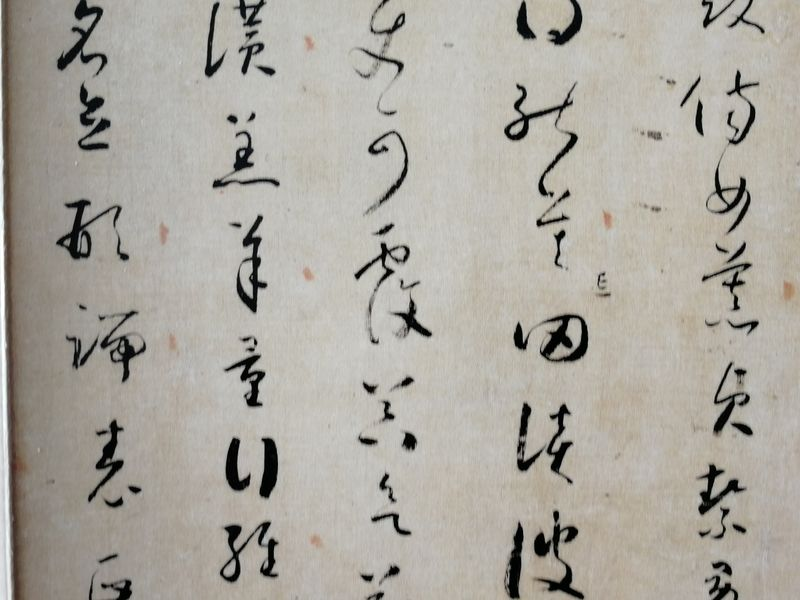zi: (356, 221, 437, 343), (60, 299, 147, 381), (500, 510, 579, 600), (198, 1, 281, 85), (209, 108, 283, 193), (706, 238, 764, 338), (505, 80, 579, 158), (355, 369, 419, 459), (685, 74, 765, 145), (84, 417, 140, 514), (55, 194, 132, 263), (214, 514, 280, 592), (515, 401, 577, 484), (509, 311, 599, 364), (225, 214, 271, 315), (529, 174, 575, 271), (222, 430, 280, 505), (708, 362, 759, 441), (694, 466, 748, 540), (51, 1, 106, 73), (354, 3, 403, 82), (362, 128, 408, 212), (703, 161, 757, 230), (512, 1, 586, 48), (223, 335, 267, 411), (370, 472, 411, 542), (84, 546, 135, 600), (70, 84, 110, 151), (699, 1, 771, 36), (349, 557, 403, 600), (701, 559, 737, 600)
